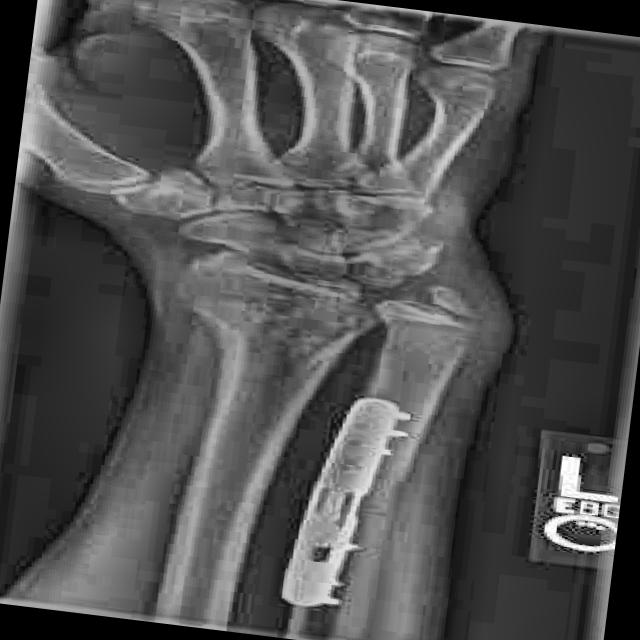fingers positive: (171, 237, 529, 349)
